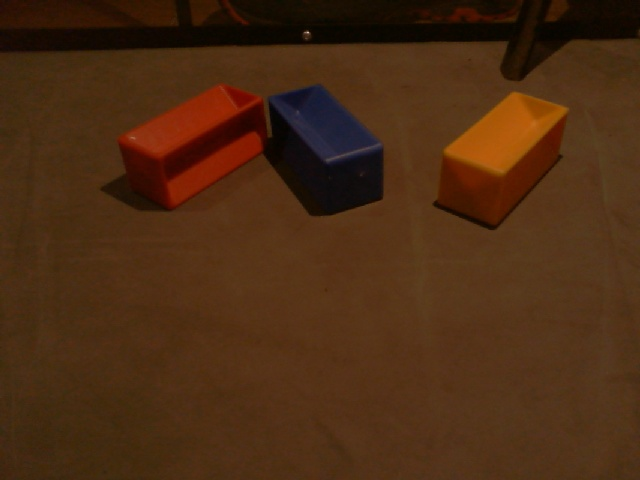BlueSample: (268, 82, 384, 212)
RedSample: (116, 81, 267, 213)
YellowSample: (433, 88, 571, 228)
